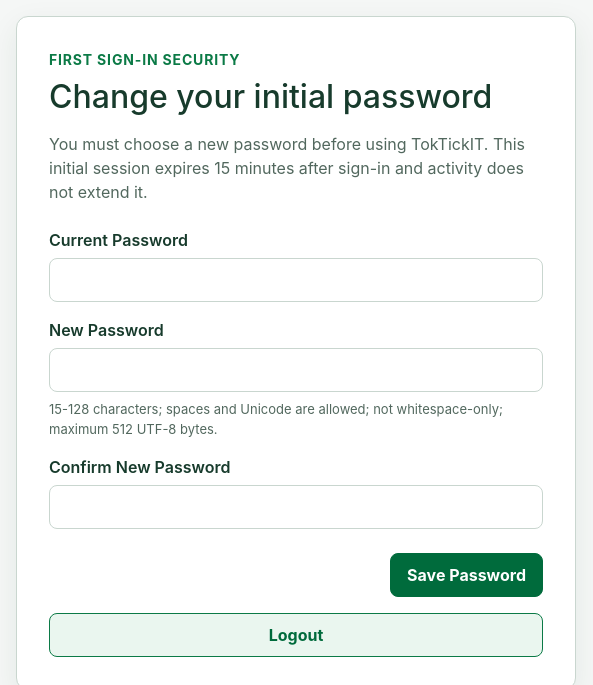
Test: Lab 3 Change Password › validates the exact password policy and confirmation before saving
Type "old-password" into the password field labelled "Current Password".
click(296, 280); type("old-password")  # box [49, 258, 543, 302]
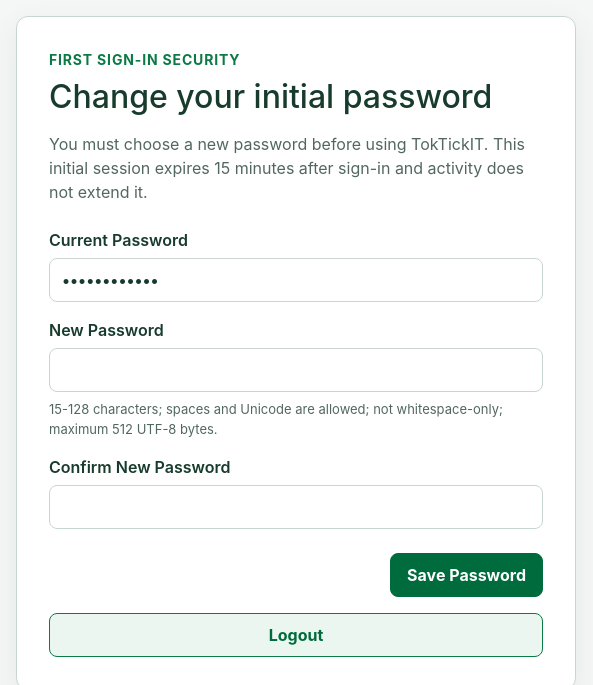
Type "short" into the password field labelled "New Password".
click(296, 370); type("short")  # box [49, 348, 543, 392]
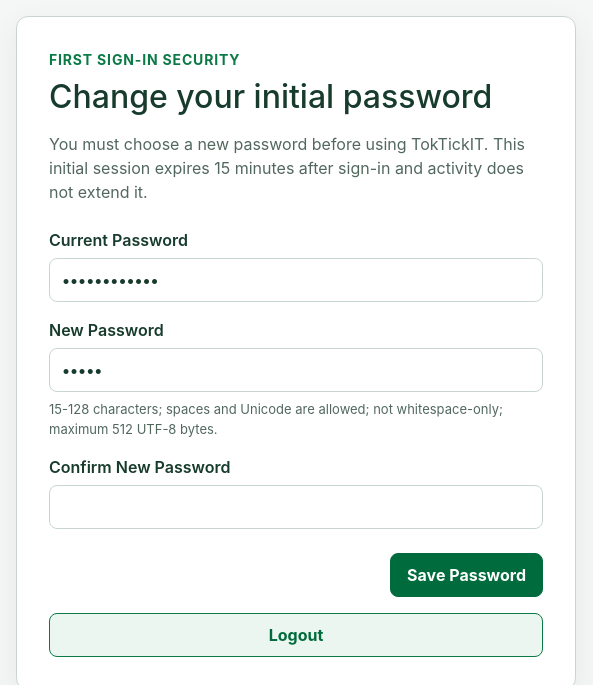
Type "different" into the password field labelled "Confirm New Password".
click(296, 507); type("different")  # box [49, 485, 543, 529]
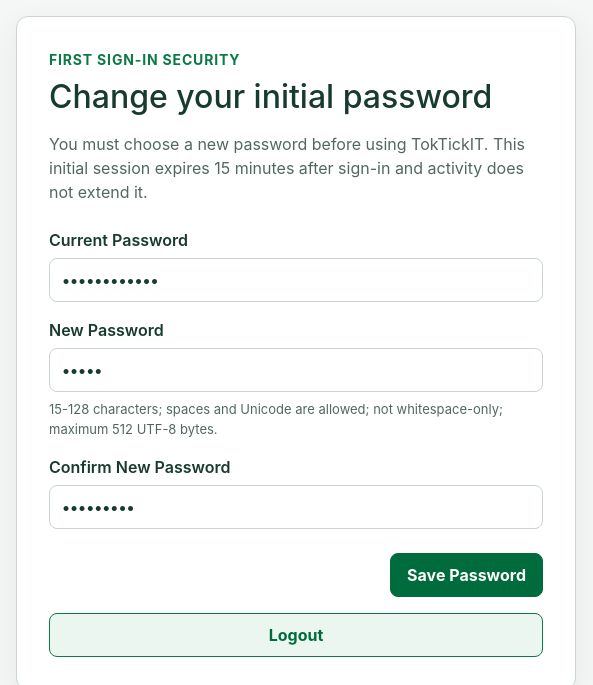
Click the button "Save Password".
click(467, 575)  # box [390, 553, 543, 597]
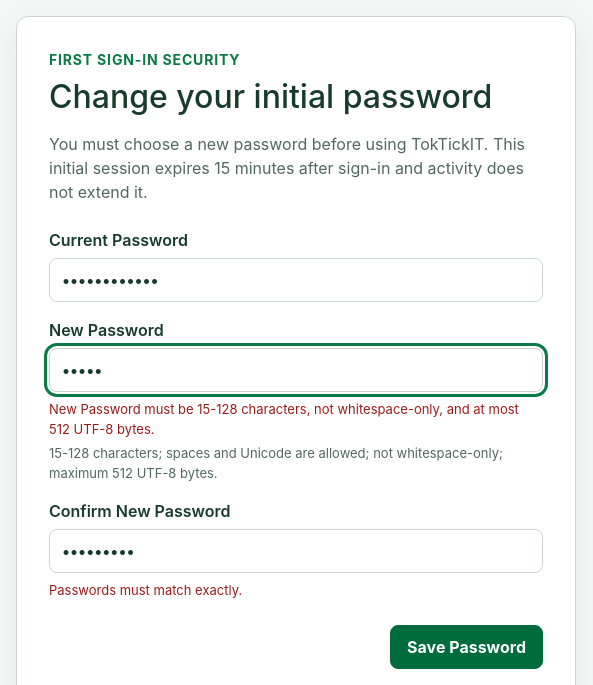
Now the text "New Password must be 15-128 characters" is shown, box [49, 401, 519, 437]
Now the text "Passwords must match exactly." is shown, box [49, 582, 242, 598]
